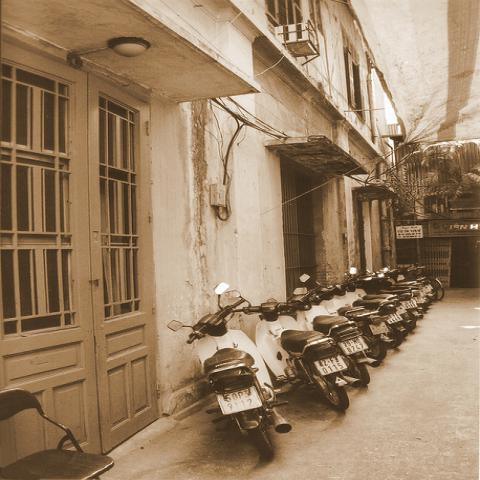motorcycle: (167, 281, 292, 462), (237, 300, 354, 412), (293, 272, 376, 392), (318, 288, 396, 361), (347, 265, 428, 309), (348, 283, 415, 331), (331, 283, 405, 325), (367, 268, 431, 304), (384, 267, 436, 302), (369, 291, 422, 323), (356, 274, 419, 290)
